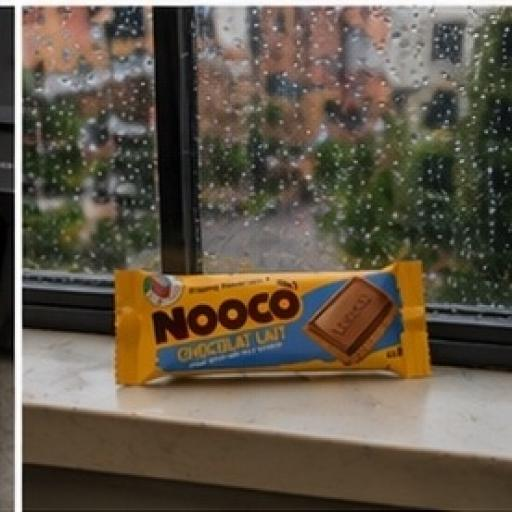biscuit-detection: (86, 214, 484, 450)
